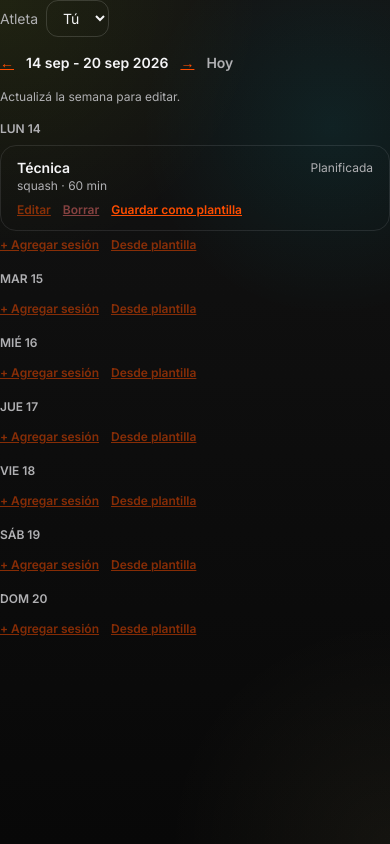
CoachPlanningPanel interactions › guarda una sesión como plantilla con el nombre confirmado
The width and height of the screenshot is (390, 844).
Click the button "Guardar como plantilla" at (177, 210), box [111,202,242,218]
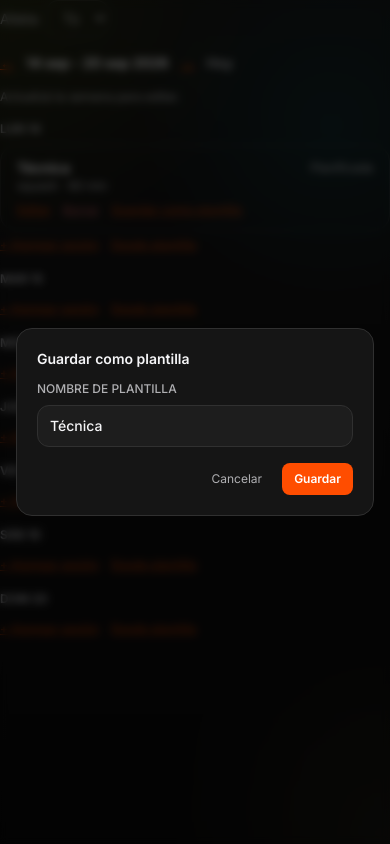
Replace the text in the field labelled "Nombre de plantilla" with "Volea favorita" at (195, 426), box [37,405,353,447]
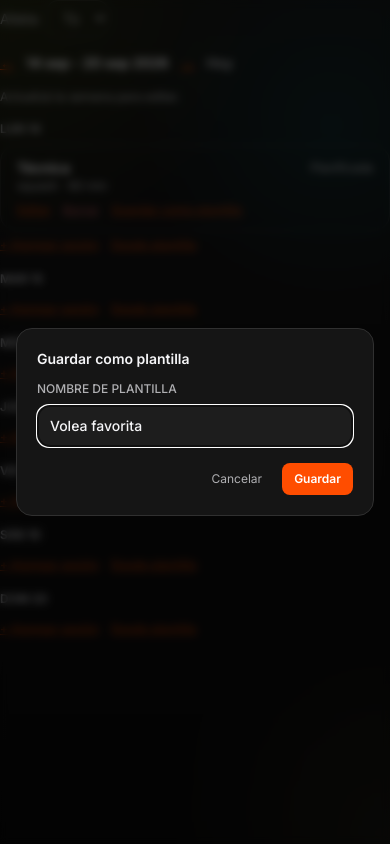
Click the button "Guardar" at (318, 479), box [282,463,353,495]
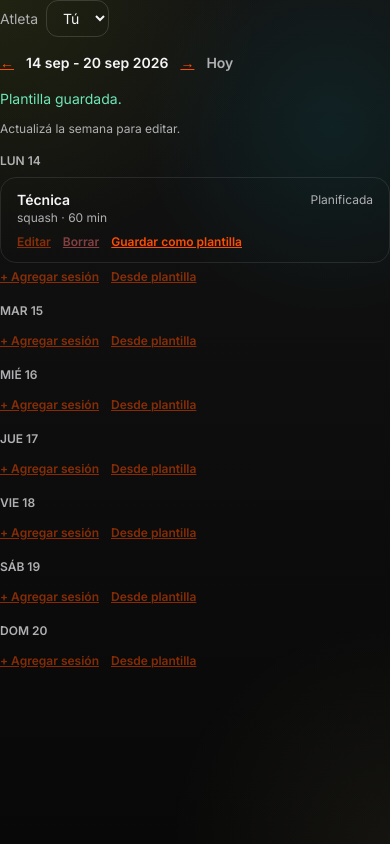
Expected: the message reads "Plantilla guardada.", [0,90,122,107]
